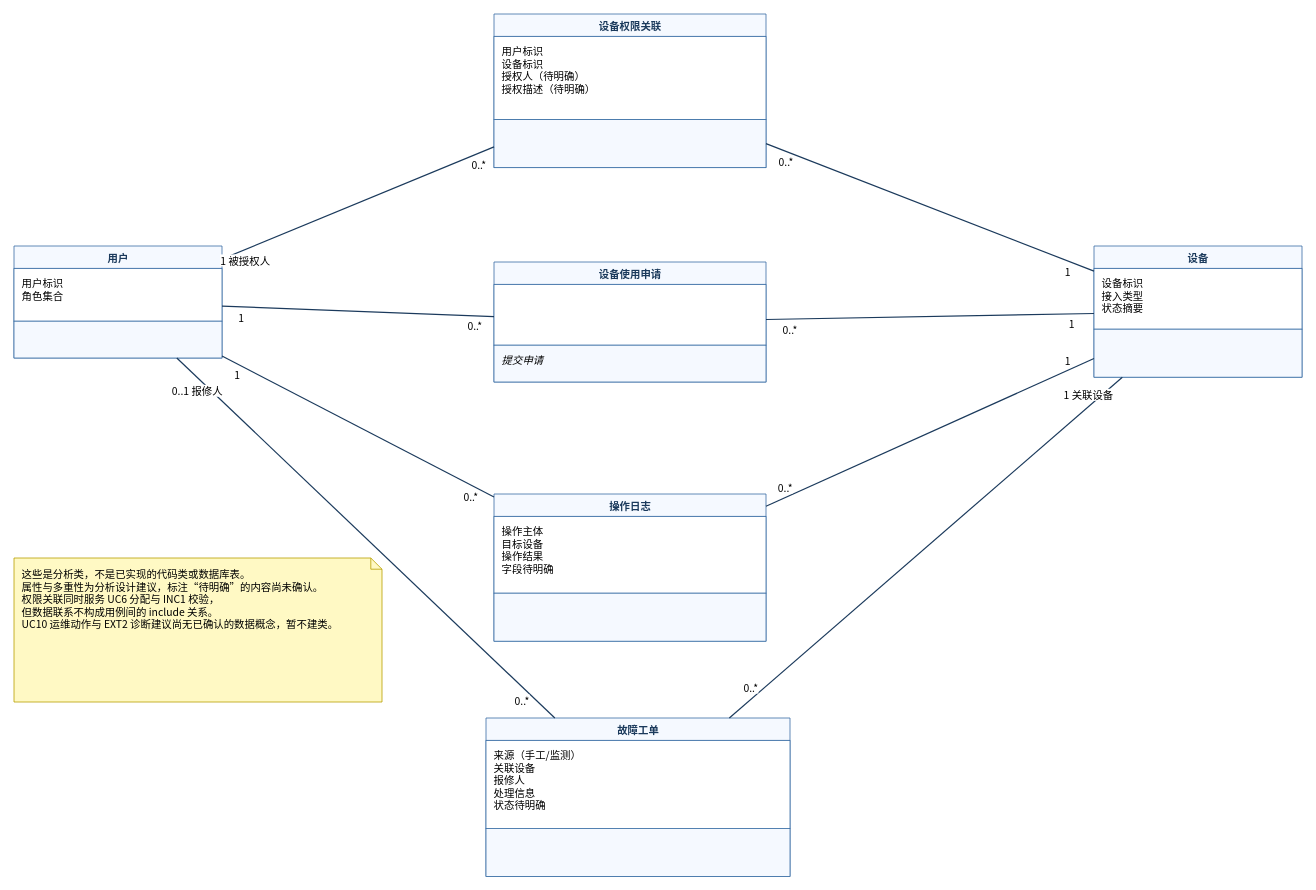
The diagram is 1316 pixels wide and 890 high, and some of its shapes have lost their labels. The centre of each missing label's shape, as x and y in pixels:
"判定访问范围（INC1） 登记授权（UC6）" goes at (x=629, y=143).
"接收操作 提供状态" goes at (x=1197, y=352).
"提供身份上下文" goes at (x=117, y=339).
"申请标识 申请人 目标设备" goes at (x=629, y=314).
"登记故障 保存处理信息（UC11）" goes at (x=637, y=852).
"记录操作（INC2） 提供审计（UC7）" goes at (x=629, y=616).
